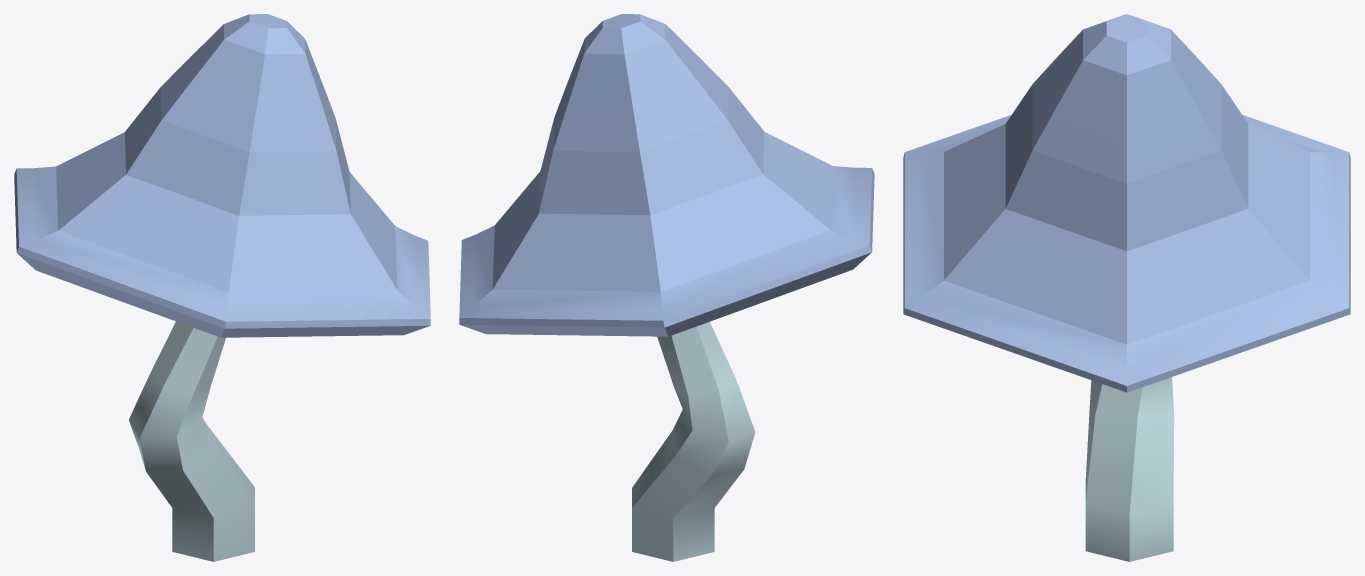
File: mushroom9.fbx
3 renders of one model, left to right at view 1: azimuth 30°, elevation 25°; view 2: azimuth 150°, elevation 25°; view 3: azimuth 270°, elevation 25°, orthographic. The views are drawn at different scales.
Parts seen in each view (by area): view 1: pCylinder27, pCylinder28; view 2: pCylinder27, pCylinder28; view 3: pCylinder27, pCylinder28.
Part boxes in pixels (x1,y1,x2,y2): pCylinder27: (14,14,430,337); pCylinder28: (129,321,254,561); pCylinder27: (459,14,874,336); pCylinder28: (632,322,755,561); pCylinder27: (903,14,1350,392); pCylinder28: (1085,377,1174,561).
Bounding box in the file's own units: 4.59 × 5.47 × 4.07.
